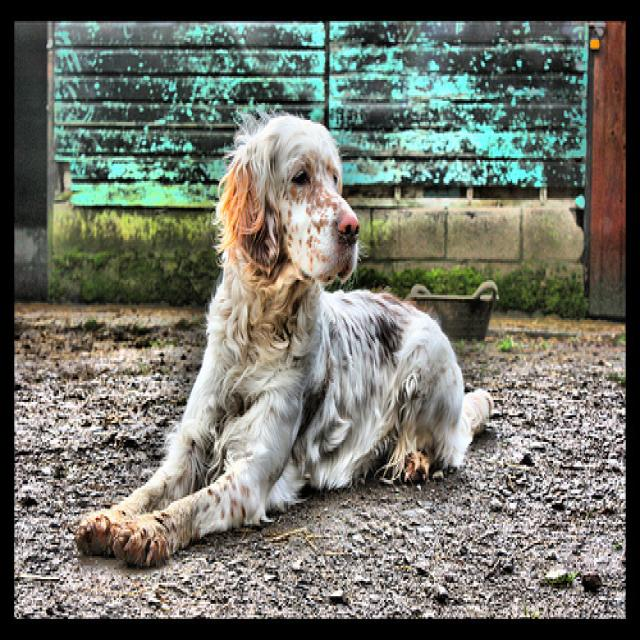dog-english_setter: (70, 91, 500, 583)
